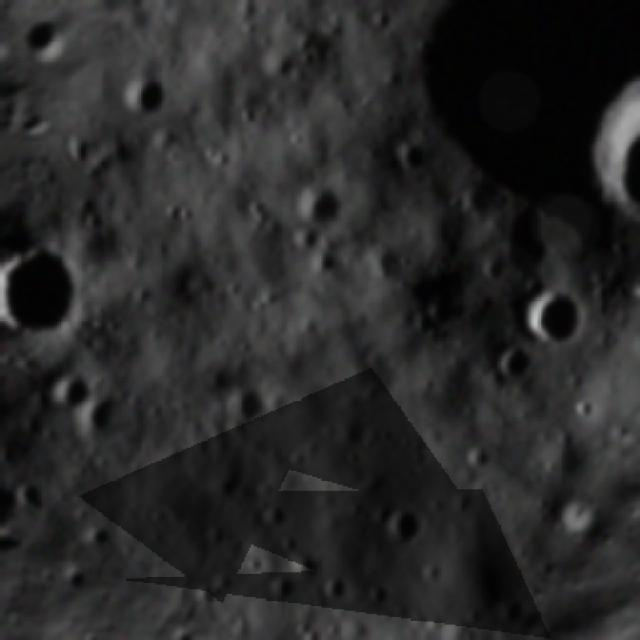crater: (0, 214, 115, 374), (538, 103, 640, 280), (496, 257, 610, 368), (278, 165, 364, 247), (107, 55, 190, 134), (66, 382, 143, 462), (203, 364, 283, 439), (480, 326, 552, 396), (28, 350, 101, 419), (352, 225, 414, 286), (376, 493, 438, 547), (49, 88, 88, 152), (259, 559, 303, 607), (312, 562, 356, 608), (75, 514, 120, 555), (360, 570, 398, 610), (456, 623, 510, 640)
